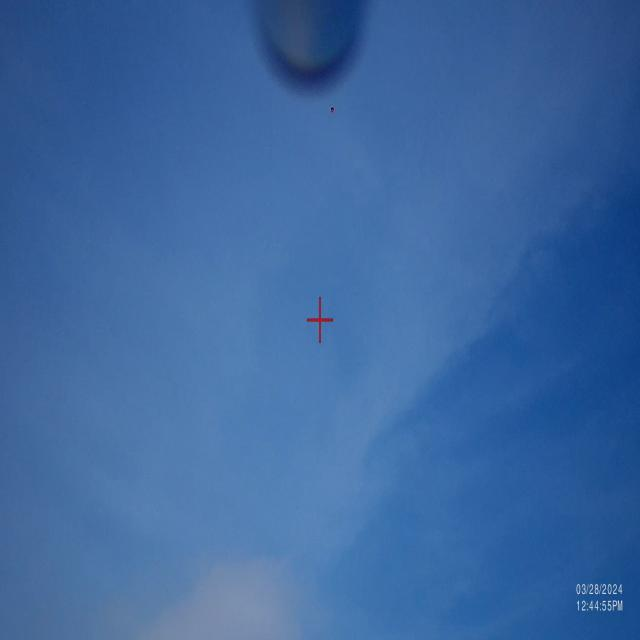entire: (324, 95, 342, 122)
